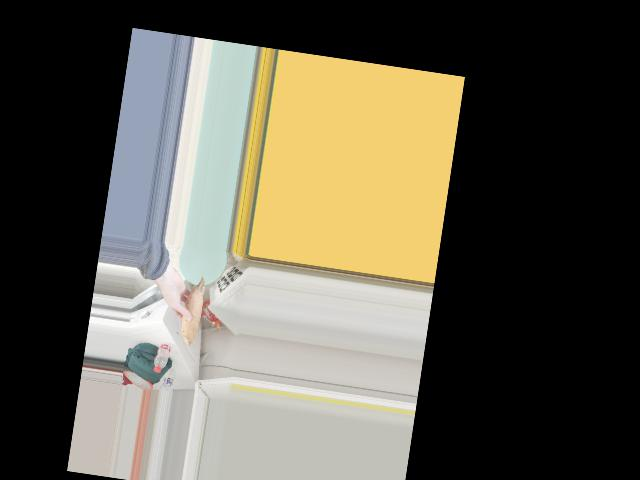sweet_potato: (176, 278, 207, 341)
